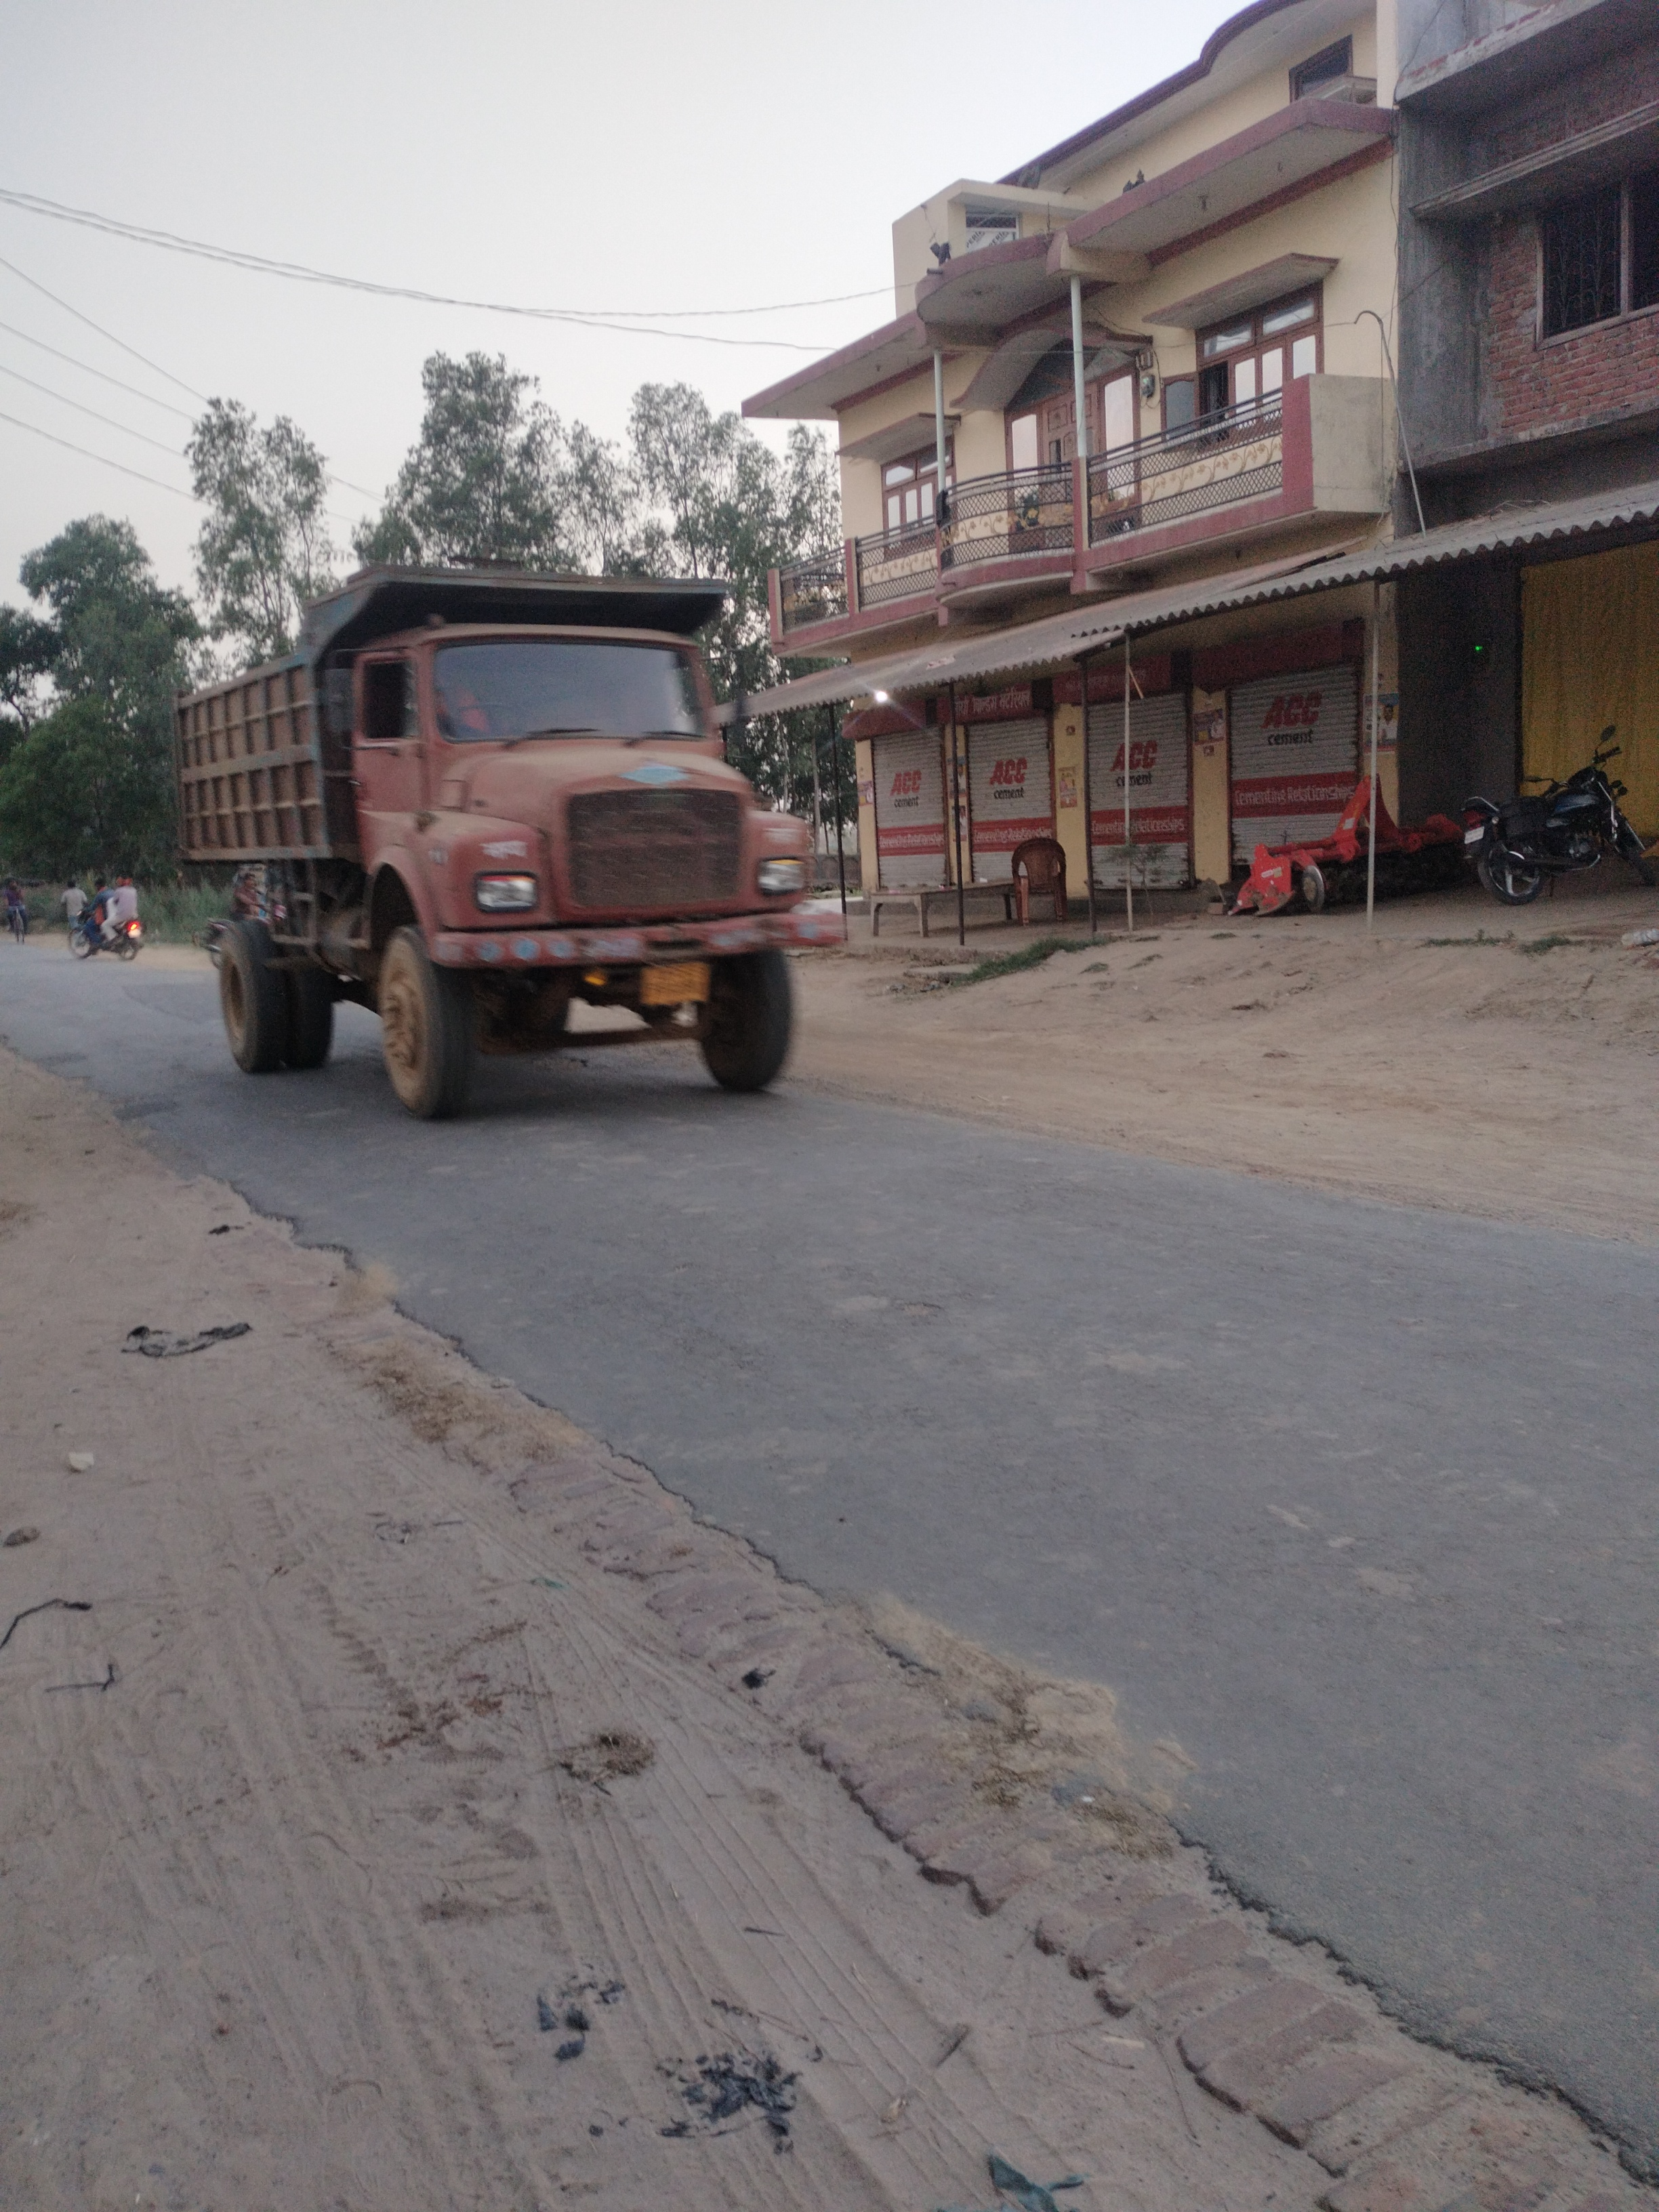truck: (167, 557, 850, 1122)
